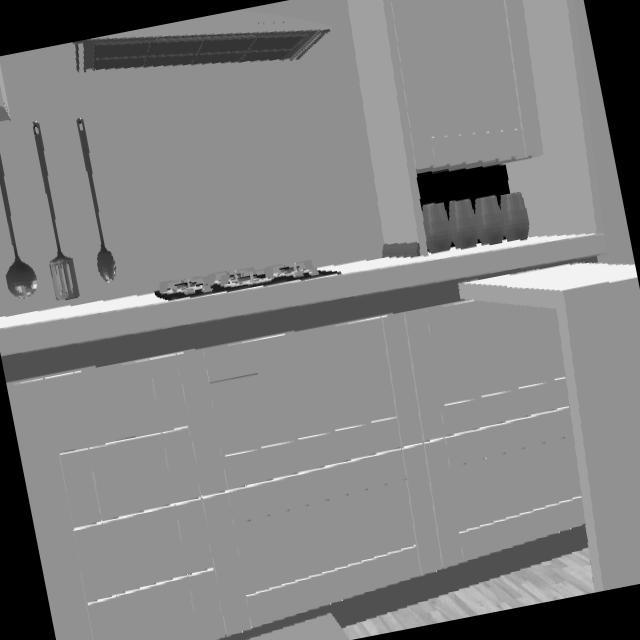cabinet: (7, 301, 585, 640), (390, 0, 525, 171)
countertop: (0, 236, 605, 384)
stove: (156, 262, 330, 302)
